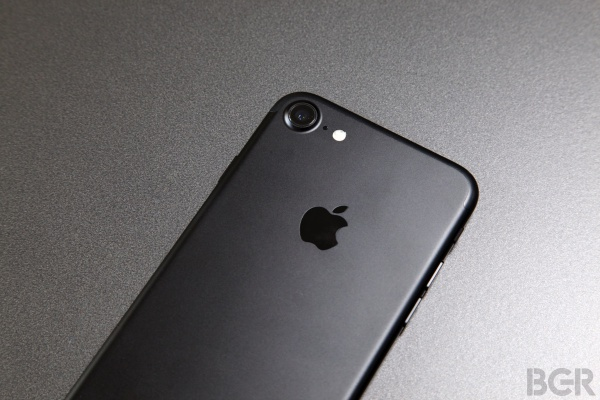apple: (298, 190, 363, 260)
